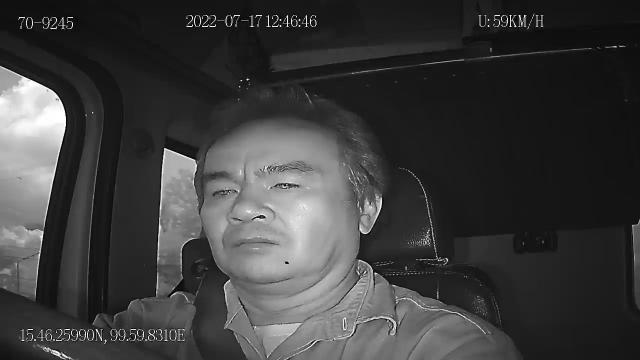SafeDriving: (262, 168, 313, 196), (202, 176, 245, 206)
Seatbelt: (190, 272, 250, 360)
